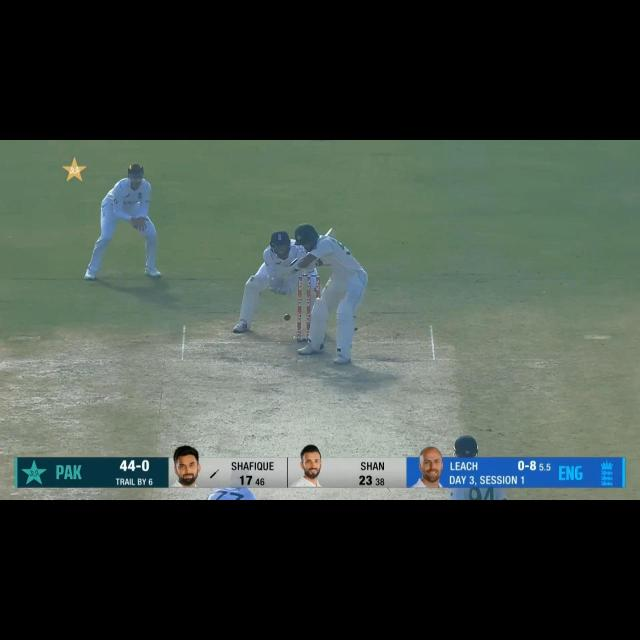toe: (328, 228, 338, 238)
